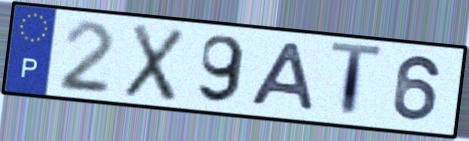2: (58, 17, 115, 95)
6: (391, 52, 445, 125)
9: (195, 33, 247, 106)
A: (246, 39, 318, 115)
T: (327, 39, 385, 123)
X: (120, 21, 189, 105)
